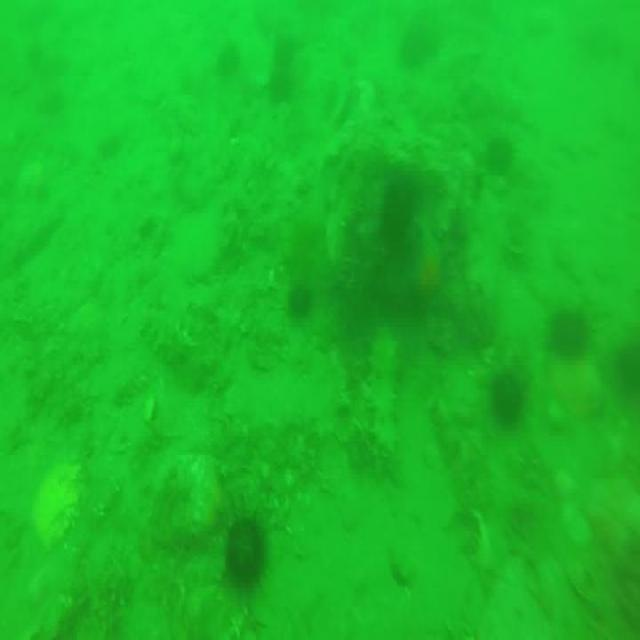echinus: (220, 512, 270, 589), (382, 169, 414, 248), (550, 308, 595, 362), (491, 370, 525, 430), (484, 133, 518, 183), (287, 281, 313, 319), (218, 46, 247, 79), (269, 70, 296, 104)
holothurian: (365, 322, 400, 453)
